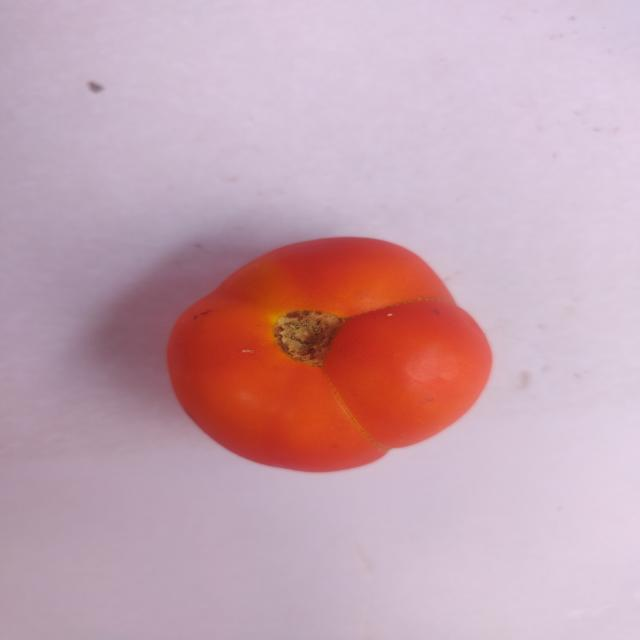Tomato: (139, 212, 506, 482)
